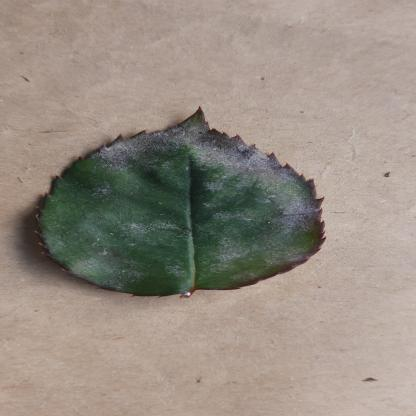powdery-mildew: (46, 108, 328, 296)
